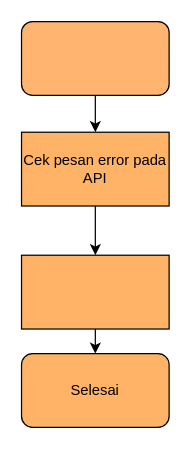
This 191x449 diagram has some shape labels left out. Each missing label, with the centre of its shape:
"Mulai" belongs at [94,57].
"Perbaikan sistem" belongs at [94,291].
